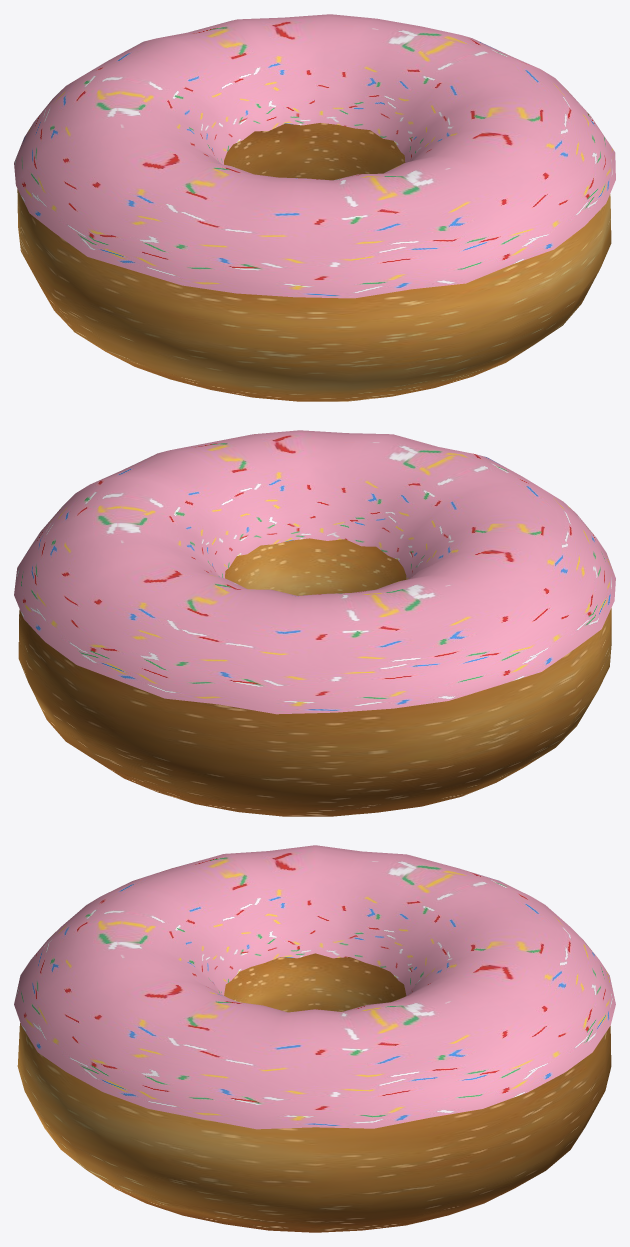
The model's file is bakery_donut_pink_sprinkles.glb.
3 views of the same model, one above another, from view 1: azimuth 30°, elevation 25°; view 2: azimuth 150°, elevation 25°; view 3: azimuth 270°, elevation 25° (orthographic).
Parts seen in each view (by area): view 1: bakery_donut_pink_sprinkles; view 2: bakery_donut_pink_sprinkles; view 3: bakery_donut_pink_sprinkles.
Part boxes in pixels (x1,y1,x2,y2): bakery_donut_pink_sprinkles: [14, 14, 615, 401]; bakery_donut_pink_sprinkles: [14, 430, 615, 816]; bakery_donut_pink_sprinkles: [14, 845, 615, 1232].
Size of the model in its own units: 0.0996 by 0.0373 by 0.0997.
Materials: 2 (2 with a texture image).
